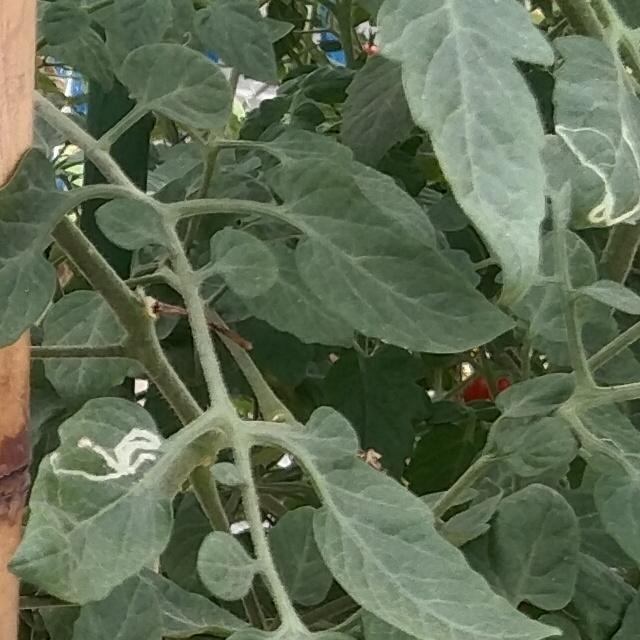Tomato healthy leaf: (306, 403, 561, 640), (372, 0, 554, 295), (273, 158, 522, 354), (115, 43, 235, 137)
Tomato target spot leaf: (7, 393, 178, 607), (548, 33, 640, 231)
